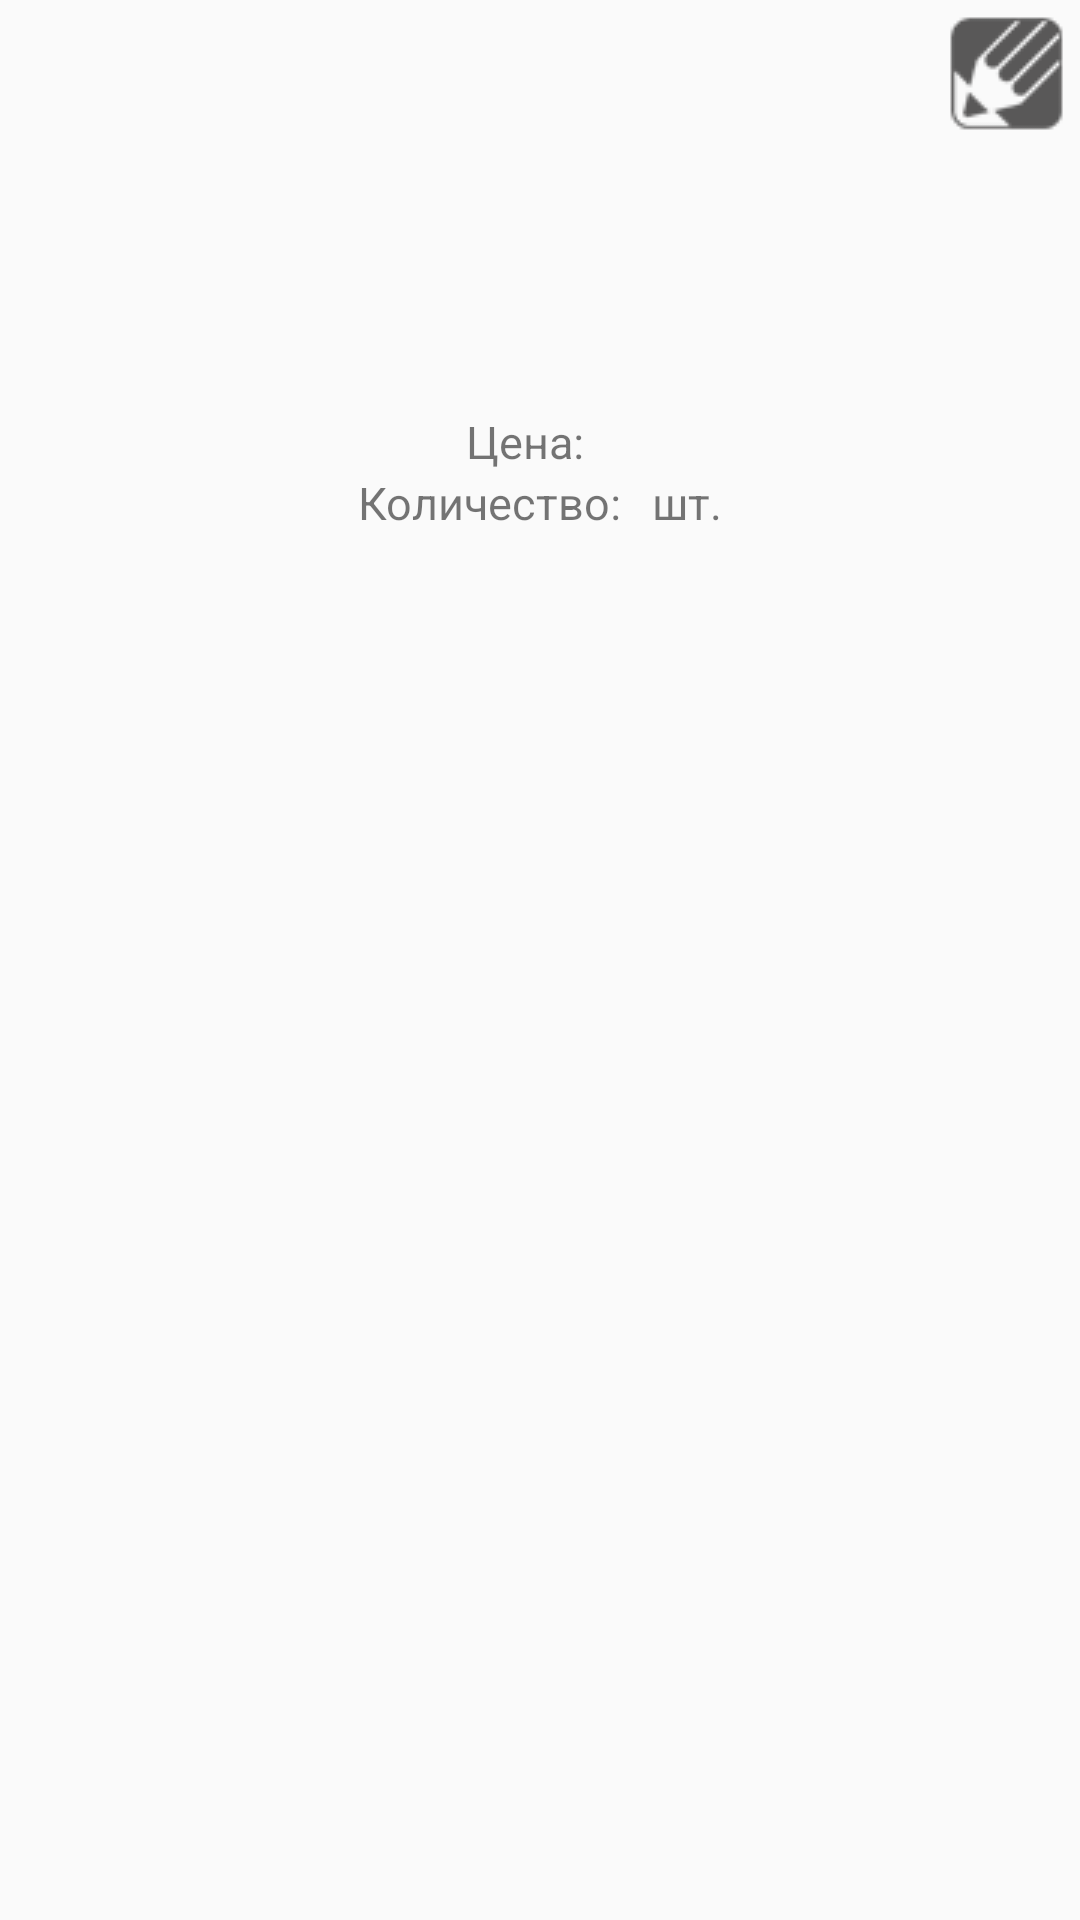

Screen size 1080px x 1920px. Icon name, then its center in pixels as (x=x, y=y):
edit: (x=1006, y=73)
